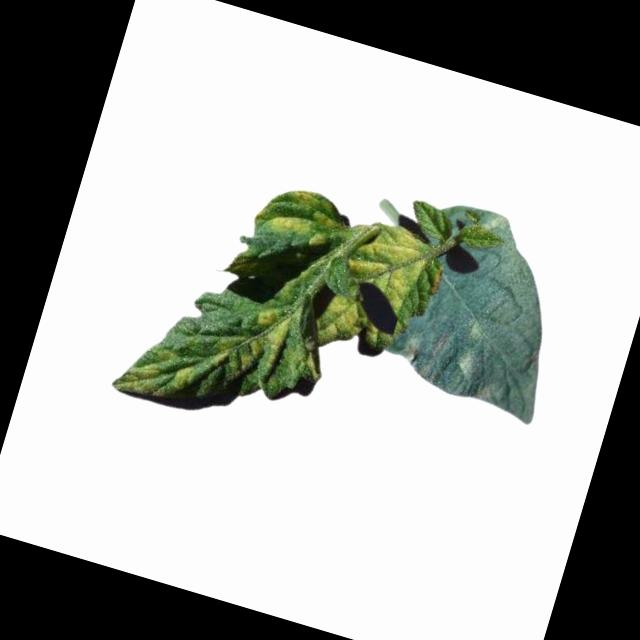Leaf_Mold: (396, 320, 510, 406), (204, 294, 298, 390), (339, 213, 432, 310), (251, 176, 344, 253), (110, 338, 196, 409), (309, 289, 375, 357)
